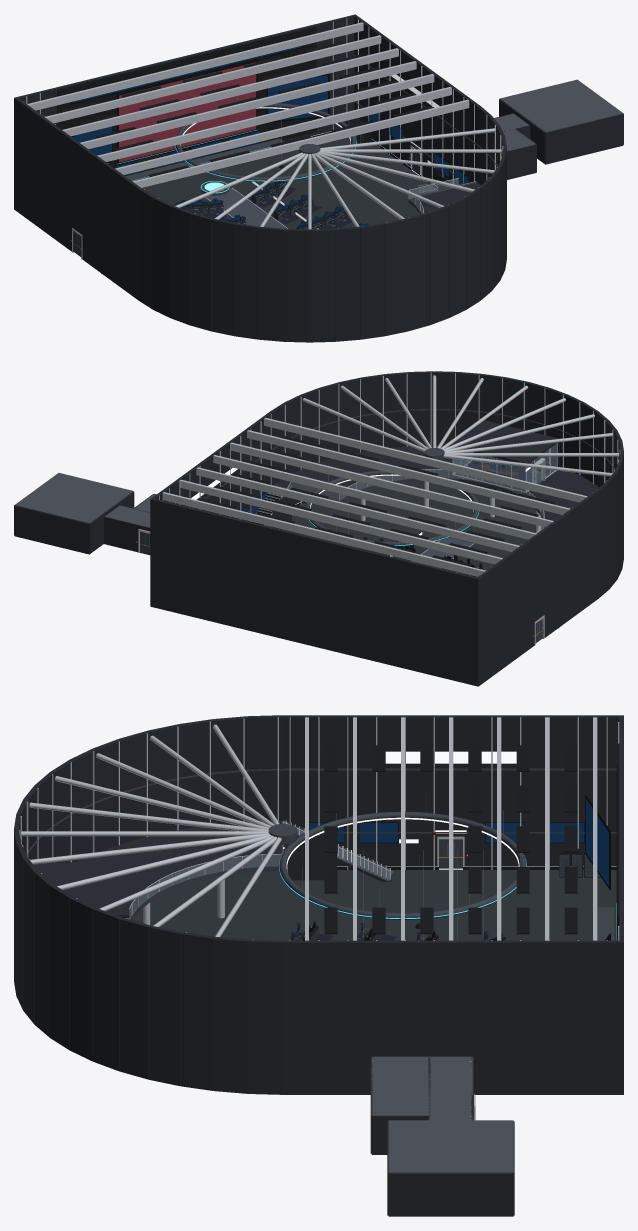
The model's file is mission_control.glb.
3 views of the same model, one above another, from view 1: azimuth 30°, elevation 25°; view 2: azimuth 150°, elevation 25°; view 3: azimuth 270°, elevation 25° (orthographic). The views are drawn at different scales.
Parts seen in each view (by area): view 1: Wall_Hall_Rear_Curved__Graphite_Panel-col, Ceiling_Structure__Aluminium_Brushed, Wall_Hall_West__Graphite_Panel-col, Floor_Hall-col, Wall_Hall_East__Graphite_Panel-col, Display_Wall_Frame__Graphite_Dark-col, Screen_Wall_Center, Briefing_Room_Shell__Ceiling_Panel-col, Screen_Wall_Center_AlertOverlay, Wall_Front_DisplayWall__Graphite_Panel-col, Briefing_Room_Shell__Graphite_Panel-col, Display_Wall_Frame__Bezel_Black-col (+10 smaller); view 2: Wall_Front_DisplayWall__Graphite_Panel-col, Ceiling_Structure__Aluminium_Brushed, Wall_Hall_Rear_Curved__Graphite_Panel-col, Wall_Hall_West__Graphite_Panel-col, Floor_Hall-col, Mezzanine_Floor-col, Briefing_Room_Shell__Ceiling_Panel-col, Wall_Hall_East__Graphite_Panel-col, Briefing_Room_Shell__Graphite_Panel-col, Director_Office_Shell__Graphite_Panel-col, Wall_Hall_Rear_Curved__Aluminium_Brushed-col, Director_Office_Shell__Glass_Office-col (+9 smaller); view 3: Wall_Hall_Rear_Curved__Graphite_Panel-col, Wall_Hall_East__Graphite_Panel-col, Wall_Hall_West__Graphite_Panel-col, Floor_Hall-col, Ceiling_Structure__Aluminium_Brushed, Briefing_Room_Shell__Ceiling_Panel-col, Briefing_Room_Shell__Graphite_Panel-col, Mezzanine_Floor-col, EVA_Suit_Room_Shell__Ceiling_Panel-col, Light_Halo_Ring__Graphite_Light, Director_Office_Shell__Graphite_Panel-col, Prep_Corridor_Shell__Ceiling_Panel-col (+15 smaller).
Part boxes in pixels (x1,y1,x2,y2): Wall_Hall_Rear_Curved__Graphite_Panel-col: (139, 106, 506, 342); Ceiling_Structure__Aluminium_Brushed: (27, 22, 501, 229); Wall_Hall_West__Graphite_Panel-col: (15, 98, 141, 300); Floor_Hall-col: (142, 137, 435, 228); Wall_Hall_East__Graphite_Panel-col: (354, 16, 479, 186); Display_Wall_Frame__Graphite_Dark-col: (57, 26, 316, 170); Screen_Wall_Center: (119, 62, 255, 162); Briefing_Room_Shell__Ceiling_Panel-col: (499, 79, 623, 132); Screen_Wall_Center_AlertOverlay: (119, 62, 255, 162); Wall_Front_DisplayWall__Graphite_Panel-col: (14, 14, 356, 210); Briefing_Room_Shell__Graphite_Panel-col: (499, 99, 623, 163); Display_Wall_Frame__Bezel_Black-col: (71, 45, 329, 175); Wall_Front_DisplayWall__Graphite_Panel-col: (150, 498, 479, 686); Ceiling_Structure__Aluminium_Brushed: (162, 375, 618, 576); Wall_Hall_Rear_Curved__Graphite_Panel-col: (271, 371, 623, 598); Wall_Hall_West__Graphite_Panel-col: (477, 491, 598, 685); Floor_Hall-col: (270, 481, 543, 570); Mezzanine_Floor-col: (274, 445, 598, 528); Briefing_Room_Shell__Ceiling_Panel-col: (14, 473, 133, 523); Wall_Hall_East__Graphite_Panel-col: (151, 411, 273, 521); Briefing_Room_Shell__Graphite_Panel-col: (14, 491, 134, 553); Director_Office_Shell__Graphite_Panel-col: (450, 420, 559, 466); Wall_Hall_Rear_Curved__Aluminium_Brushed-col: (284, 372, 620, 504); Director_Office_Shell__Glass_Office-col: (453, 443, 557, 491); Wall_Hall_Rear_Curved__Graphite_Panel-col: (14, 715, 282, 1094); Wall_Hall_East__Graphite_Panel-col: (283, 940, 621, 1094); Wall_Hall_West__Graphite_Panel-col: (283, 715, 620, 866); Floor_Hall-col: (132, 869, 616, 940); Ceiling_Structure__Aluminium_Brushed: (21, 717, 597, 940); Briefing_Room_Shell__Ceiling_Panel-col: (388, 1120, 513, 1173); Briefing_Room_Shell__Graphite_Panel-col: (387, 1121, 514, 1216); Mezzanine_Floor-col: (78, 820, 282, 919); EVA_Suit_Room_Shell__Ceiling_Panel-col: (371, 1056, 429, 1115); Light_Halo_Ring__Graphite_Light: (279, 811, 526, 919); Director_Office_Shell__Graphite_Panel-col: (34, 862, 129, 918); Prep_Corridor_Shell__Ceiling_Panel-col: (429, 1056, 472, 1120).
Size of what is drawn, in the model's own units: 68.76 by 14.33 by 50.8.
